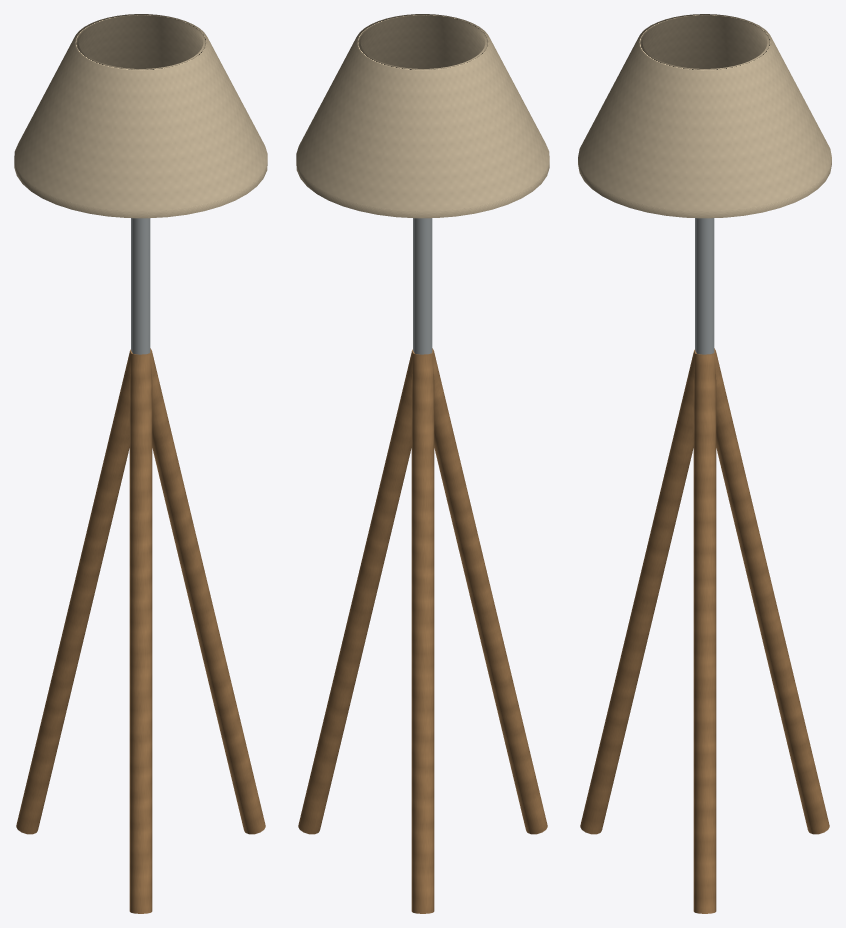
The model's file is floor_lamp_fjord-b64757c9ebb8.glb.
3 renders of one model, left to right at view 1: azimuth 30°, elevation 25°; view 2: azimuth 150°, elevation 25°; view 3: azimuth 270°, elevation 25°, orthographic.
Visible parts, largest first — view 1: surface_linen, surface_oak, surface_steel; view 2: surface_linen, surface_oak, surface_steel; view 3: surface_linen, surface_oak, surface_steel.
Boxes of the visible parts, box(x1,y1,x2,y2) form: surface_linen: box(14, 14, 267, 218); surface_oak: box(16, 348, 265, 913); surface_steel: box(131, 218, 150, 354); surface_linen: box(296, 14, 549, 218); surface_oak: box(298, 348, 547, 913); surface_steel: box(413, 218, 432, 354); surface_linen: box(578, 14, 831, 218); surface_oak: box(580, 348, 829, 913); surface_steel: box(695, 218, 714, 354).
Size of the model in its own units: 0.4095 by 1.37 by 0.386.
4 materials, 2 textured.
